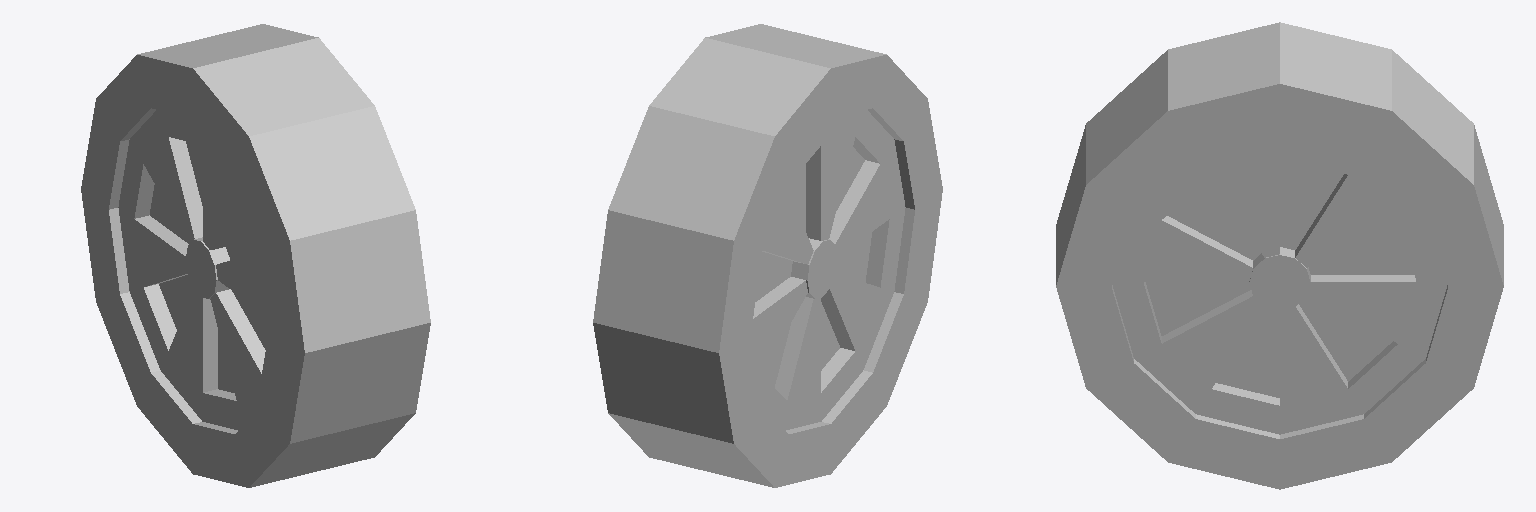
Rendered from Llanta4Carro_obj.obj.
The picture shows the model from 3 angles: view 1: azimuth 30°, elevation 25°; view 2: azimuth 150°, elevation 25°; view 3: azimuth 270°, elevation 25°; orthographic projection.
Parts seen in each view (by area): view 1: Llanta_4; view 2: Llanta_4; view 3: Llanta_4.
Boxes of the visible parts, box(x1,y1,x2,y2) form: Llanta_4: box(81, 24, 430, 487); Llanta_4: box(593, 24, 942, 487); Llanta_4: box(1056, 22, 1503, 489).
Bounding box in the file's own units: 5.12 × 15.75 × 15.75.